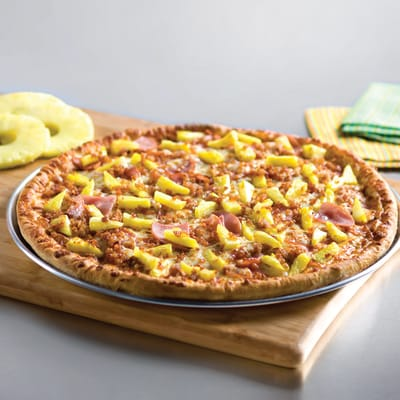salad: (0, 91, 95, 170)
sandwich: (6, 125, 396, 301)
